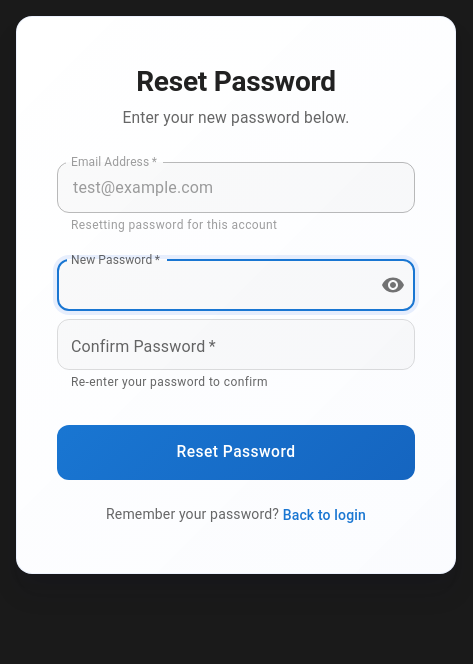
Test: PasswordResetConfirmForm › password strength › should show feedback for missing special character
Note: Enter password without special character
In the password field labelled "New Password *": (211, 285) [57, 260, 365, 311], type "Password1"
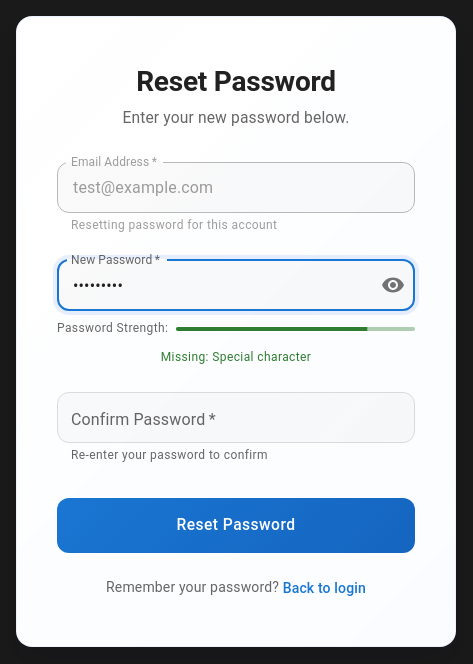
expect the text "Missing: Special character" is shown: met, box [161, 350, 311, 364]
